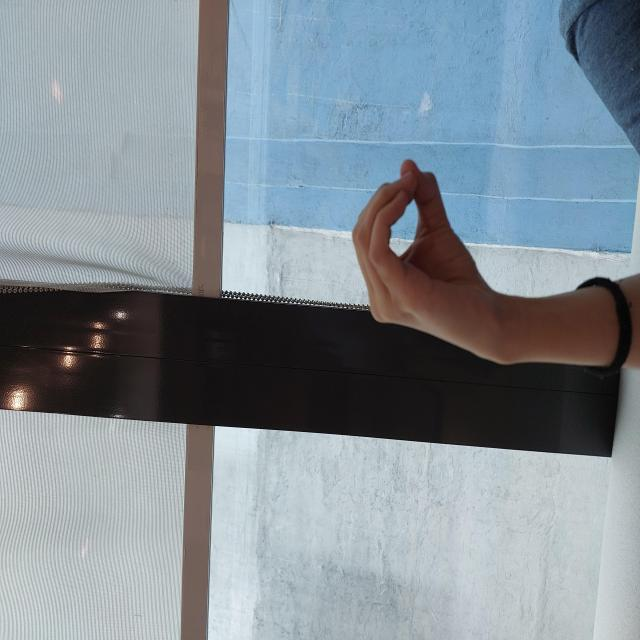O: (306, 351, 482, 482)
